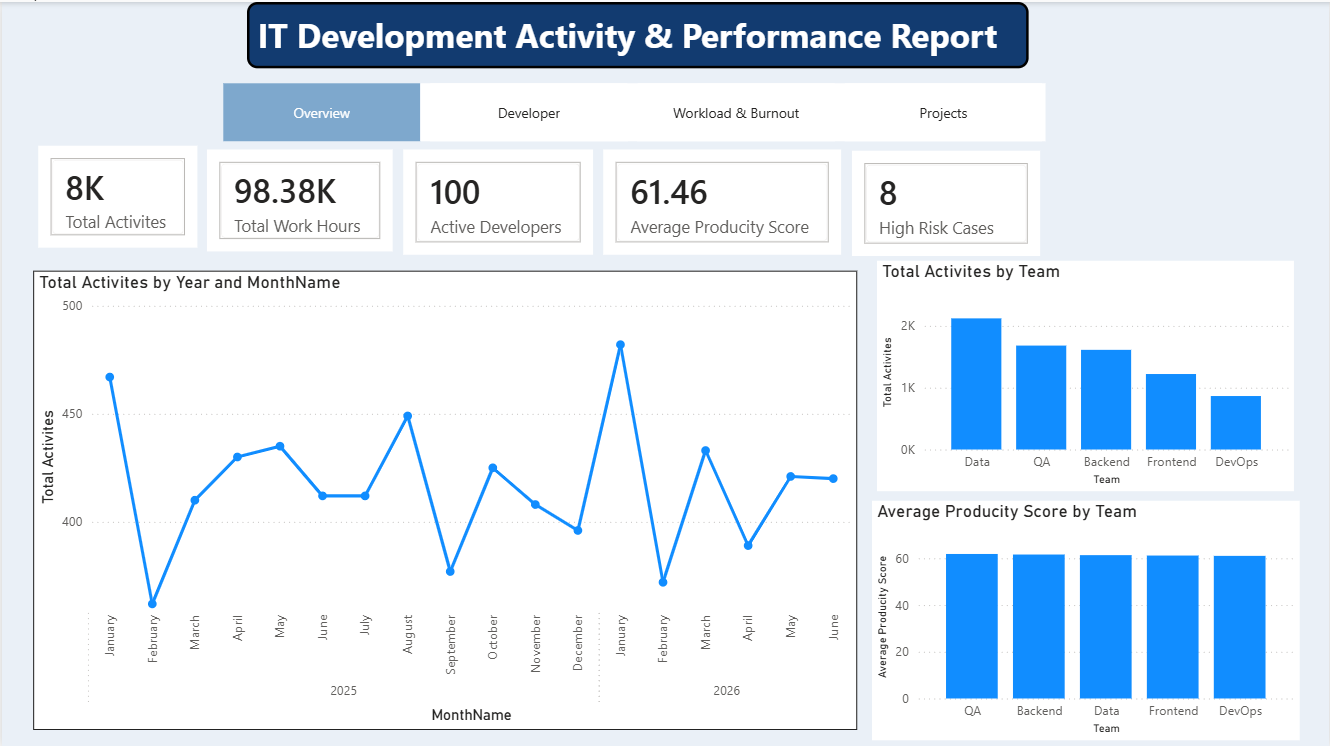

Layout of this report page (visuals, bound fields, positions):
{"tool":"powerbi","page":{"name":"Overview","canvas":[1280,720],"ordinal":0},"visuals":[{"type":"cardVisual","fields":{"Data":["Calculation.Total Activites"]},"box":[30.3,134.2,163,108.2],"z":0},{"type":"cardVisual","fields":{"Data":["Calculation.Active Developers"]},"box":[382.3,137.1,193.3,111.1],"z":1000},{"type":"cardVisual","fields":{"Data":["Calculation.Total Working Hours"]},"box":[193.3,137.1,189.4,108.6],"z":2000},{"type":"cardVisual","fields":{"Data":["Calculation.Average Producity"]},"box":[575.7,137.1,239.5,111.1],"z":3000},{"type":"cardVisual","fields":{"Data":["Calculation.High Risk Cases"]},"box":[815.2,138.5,191.9,111.1],"z":4000},{"type":"lineChart","fields":{"Category":["DimDate.Year","DimDate.MonthName"],"Y":["Calculation.Total Activites"]},"box":[30.3,259.7,795,442.9],"z":6000},{"type":"clusteredColumnChart","fields":{"Category":["DimDeveloper.Team"],"Y":["Calculation.Total Activites"]},"box":[844,249.6,402.5,222.2],"z":7000},{"type":"clusteredColumnChart","fields":{"Category":["DimDeveloper.Team"],"Y":["Calculation.Average Producity Score"]},"box":[839.7,481.9,412.6,230.8],"z":8000},{"type":"textbox","box":[236.5,0,754.3,64],"z":10000},{"type":"pageNavigator","box":[213.5,77.9,793.5,56.3],"z":10001}]}

Visuals, with their boxes in screenshot pixels (x1, y1, x2, y2), scaled from the page's 1280x720 canvas onto the 1330x746 screenshot:
cardVisual - Calculation.Total Activites: BBox(31, 139, 201, 251)
cardVisual - Calculation.Active Developers: BBox(397, 142, 598, 257)
cardVisual - Calculation.Total Working Hours: BBox(201, 142, 398, 255)
cardVisual - Calculation.Average Producity: BBox(598, 142, 847, 257)
cardVisual - Calculation.High Risk Cases: BBox(847, 144, 1046, 259)
lineChart - DimDate.Year x DimDate.MonthName: BBox(31, 269, 858, 728)
clusteredColumnChart - DimDeveloper.Team x Calculation.Total Activites: BBox(877, 259, 1295, 489)
clusteredColumnChart - DimDeveloper.Team x Calculation.Average Producity Score: BBox(873, 499, 1301, 738)
textbox: BBox(246, 0, 1030, 66)
pageNavigator: BBox(222, 81, 1046, 139)
